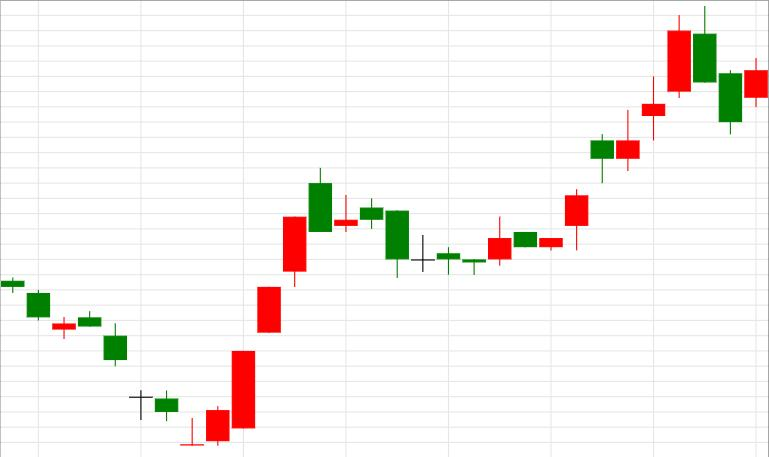three_white_soldiers_rise: (0, 217, 306, 446)
